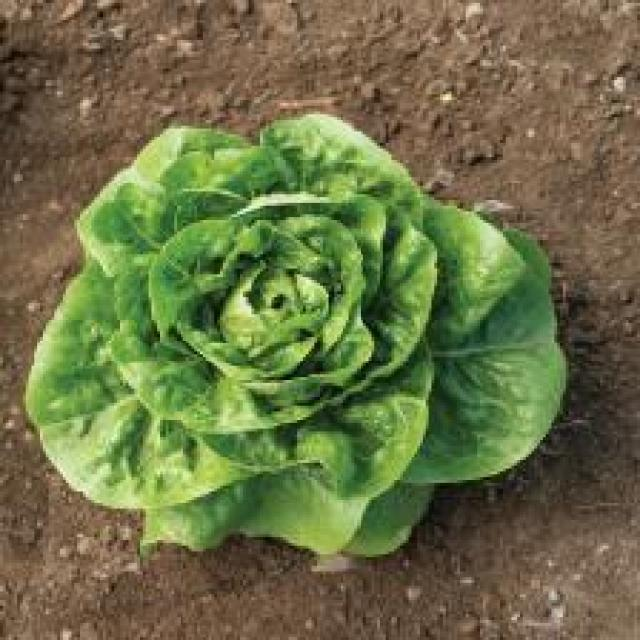Lettuce: (27, 107, 570, 564)
